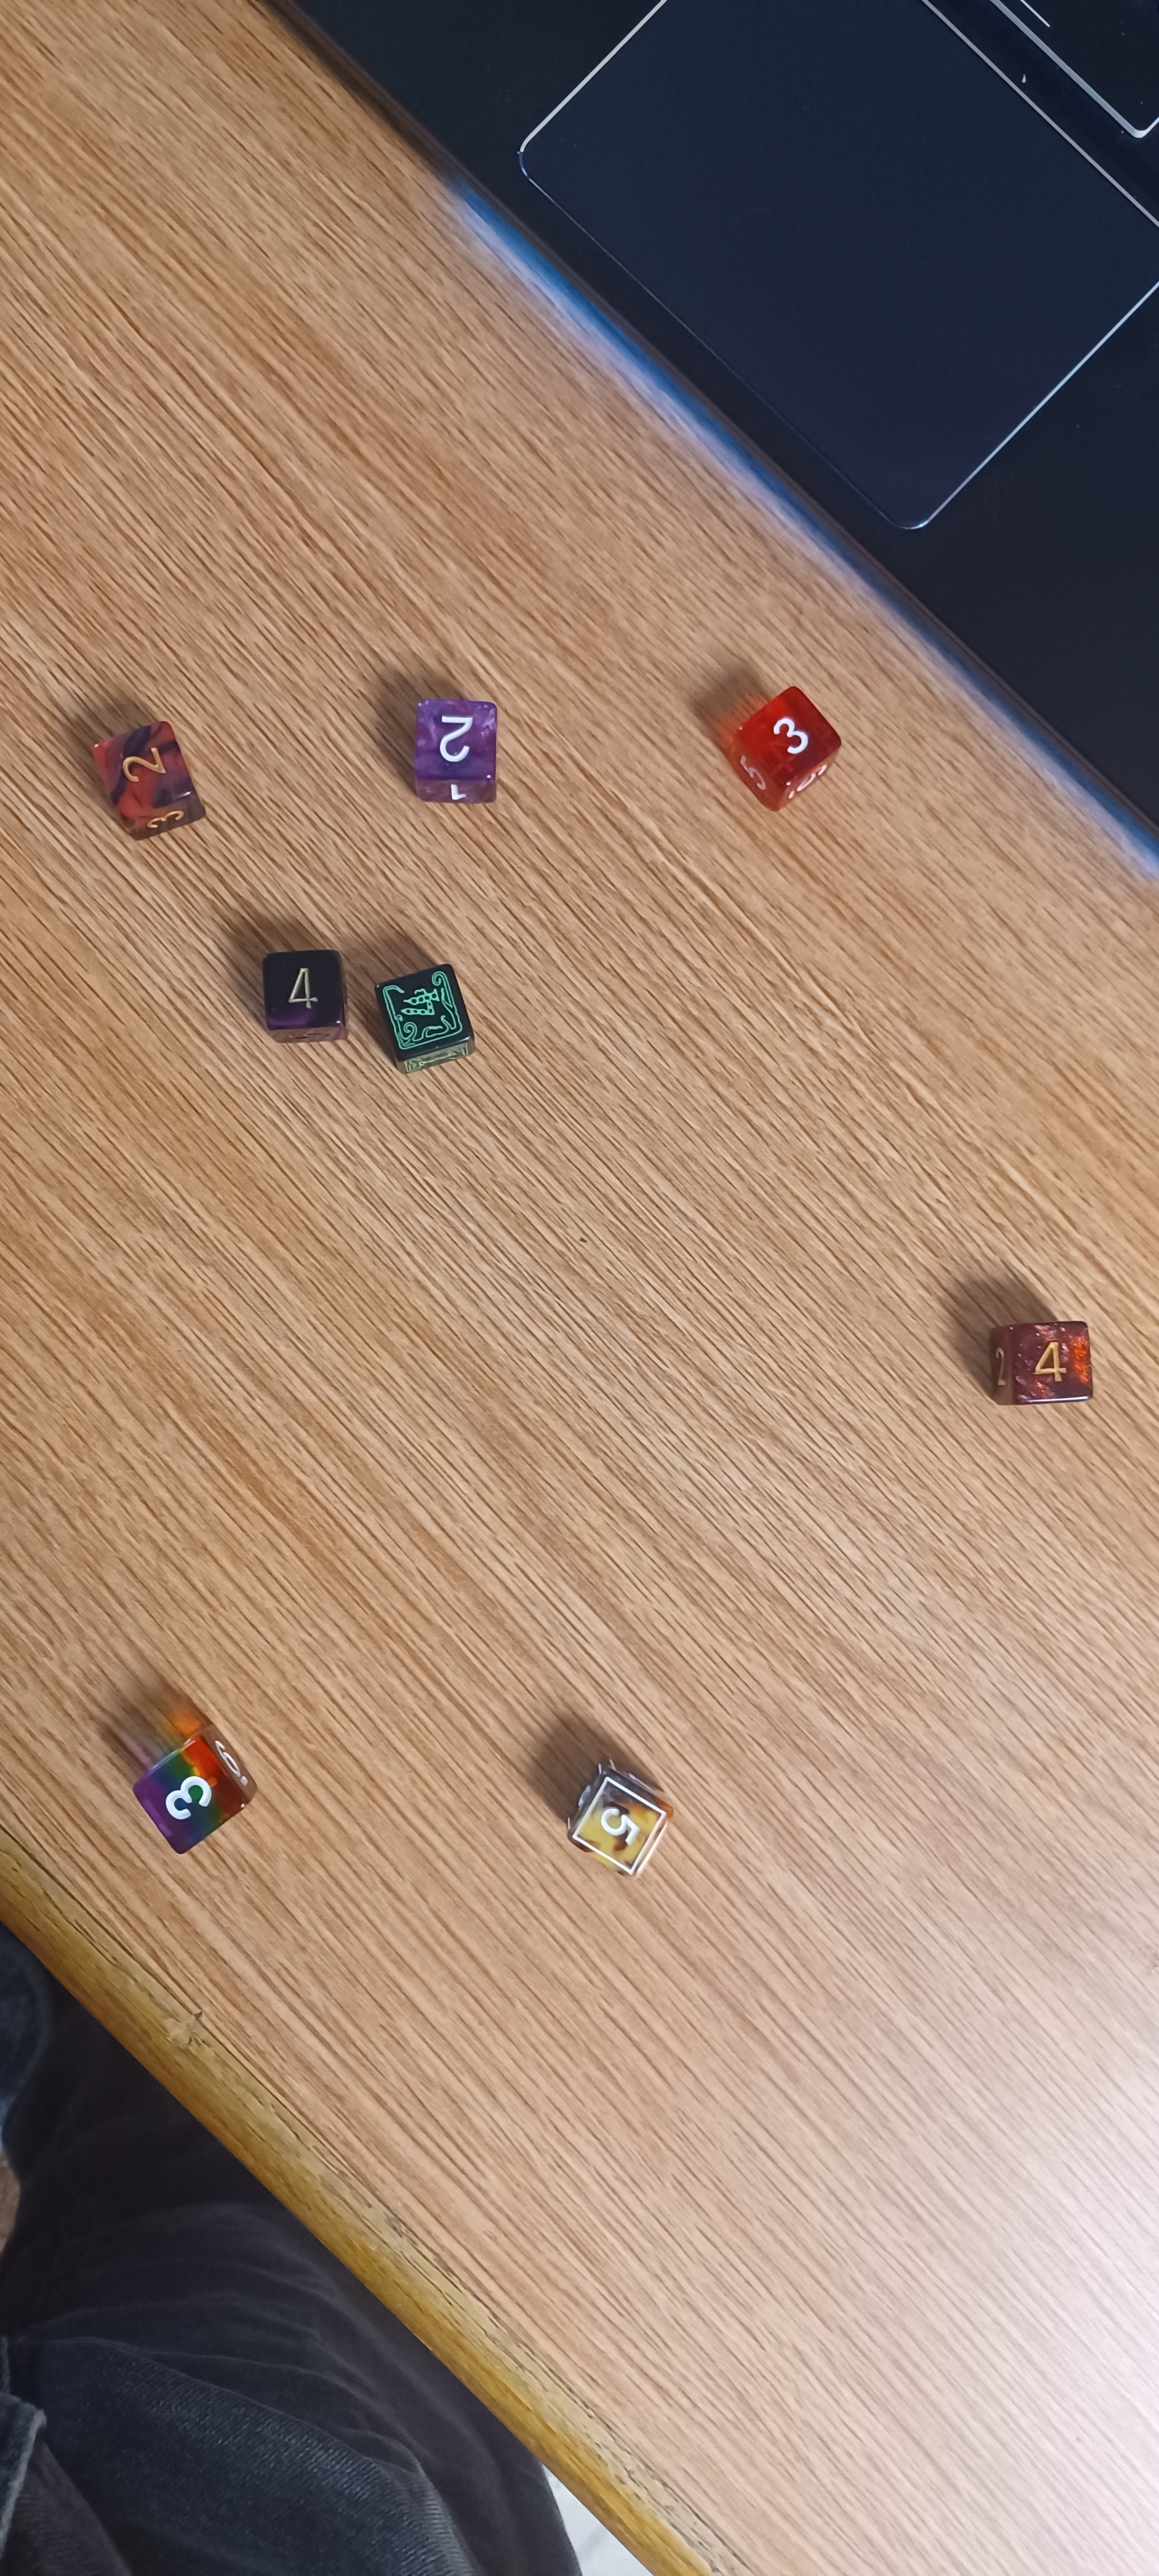five: (535, 1727, 714, 1901)
four: (939, 1280, 1133, 1439), (360, 943, 499, 1109), (230, 923, 373, 1058)
three: (87, 1694, 287, 1873), (693, 664, 888, 823)
two: (43, 701, 245, 861), (361, 672, 558, 831)
